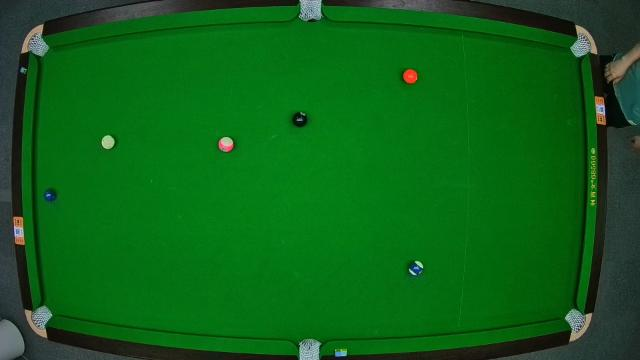bag1: (28, 35, 48, 55)
bag2: (300, 0, 322, 22)
bag3: (572, 34, 592, 54)
bag4: (31, 306, 51, 326)
bag5: (298, 342, 320, 360)
bag6: (566, 310, 584, 332)
ball0: (102, 136, 116, 148)
ball10: (408, 260, 426, 276)
ball12: (219, 137, 233, 153)
ball2: (42, 187, 58, 203)
ball5: (403, 68, 419, 84)
ball8: (291, 110, 309, 127)
